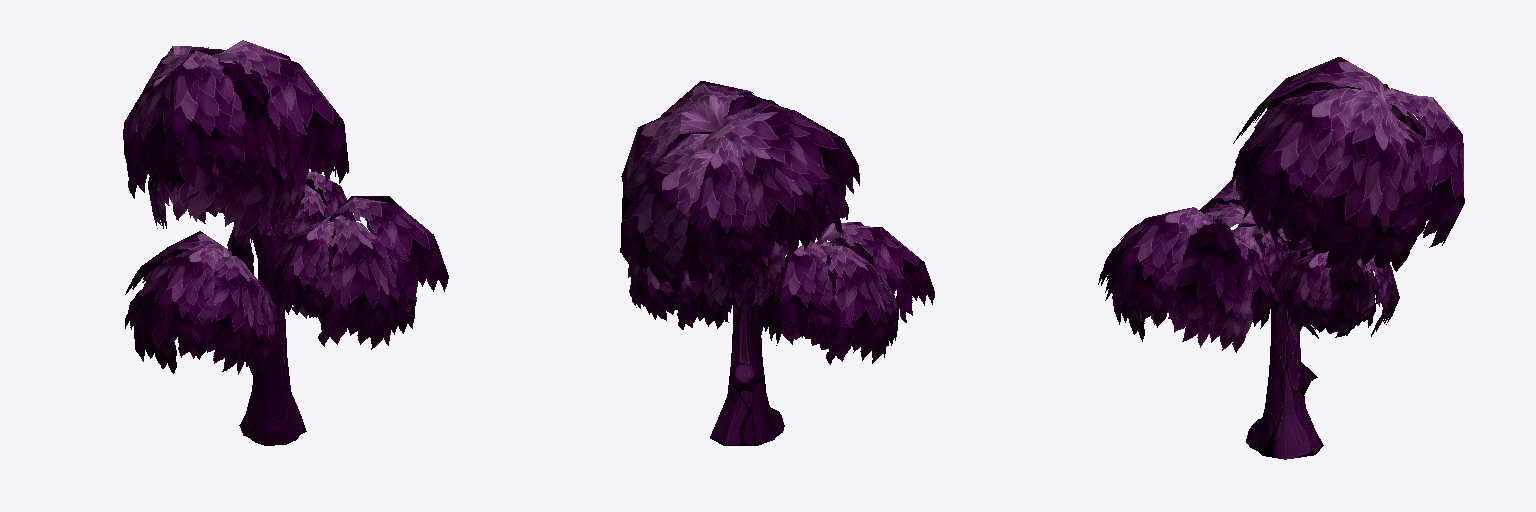
The picture shows the model from 3 angles: view 1: azimuth 30°, elevation 25°; view 2: azimuth 150°, elevation 25°; view 3: azimuth 270°, elevation 25°; orthographic projection.
Parts seen in each view (by area): view 1: tree02; view 2: tree02; view 3: tree02.
Boxes of the visible parts, x1=… form: tree02: x1=123, y1=40, x2=448, y2=445; tree02: x1=620, y1=81, x2=934, y2=445; tree02: x1=1098, y1=57, x2=1464, y2=459.
Size of the model in its own units: 3455 by 4196 by 3913.
1 materials, 1 textured.